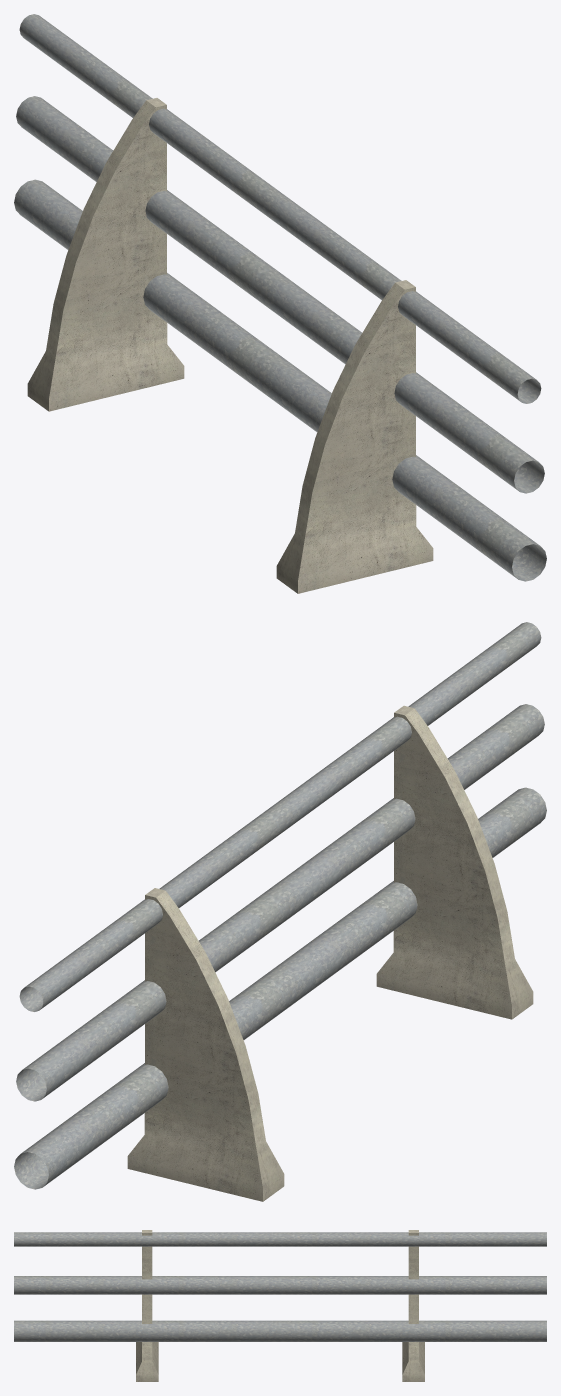
File: GSDRailing4.FBX
3 renders of one model, top to bottom at view 1: azimuth 30°, elevation 25°; view 2: azimuth 150°, elevation 25°; view 3: azimuth 270°, elevation 25°, orthographic. The views are drawn at different scales.
Parts seen in each view (by area): view 1: GSDRailing4; view 2: GSDRailing4; view 3: GSDRailing4.
Boxes of the visible parts, left/top/right/bottom form: GSDRailing4: left=14, top=14, right=546, bottom=593; GSDRailing4: left=14, top=622, right=546, bottom=1201; GSDRailing4: left=14, top=1230, right=546, bottom=1381.
Size of the model in its own units: 0.7854 by 1.51 by 5.
